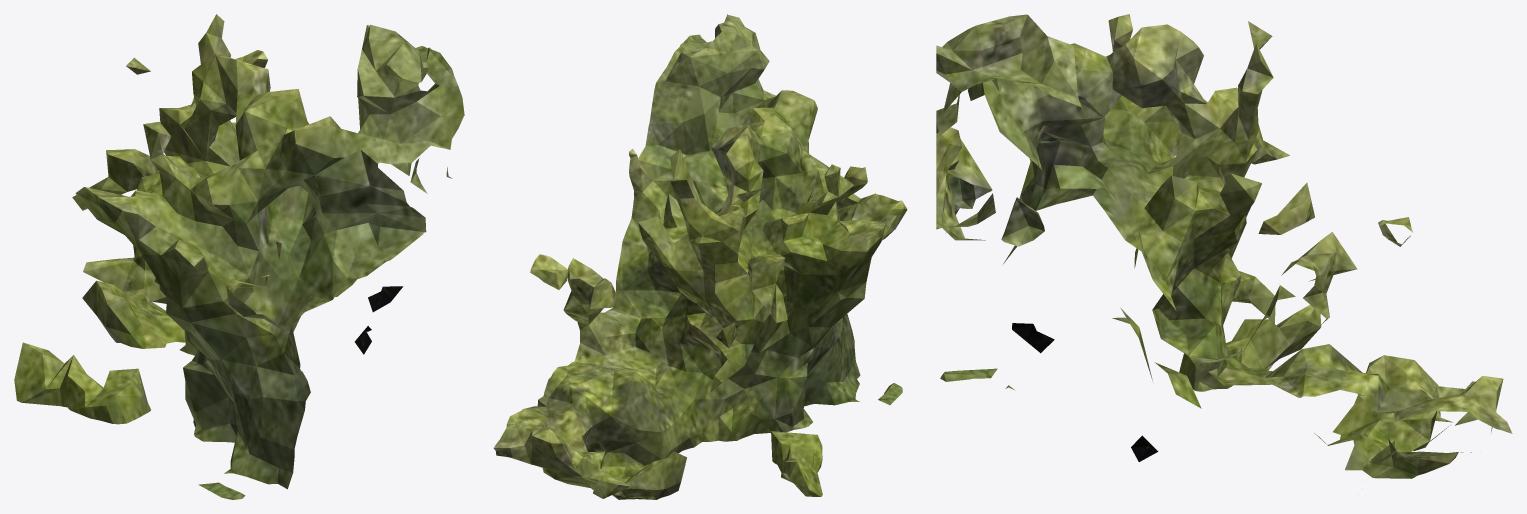
3 views of the same model, side by side, from view 1: azimuth 30°, elevation 25°; view 2: azimuth 150°, elevation 25°; view 3: azimuth 270°, elevation 25° (orthographic). The views are drawn at different scales.
Size of the model in its own units: 2.96 by 3.96 by 4.53.
3 materials, 3 textured.
